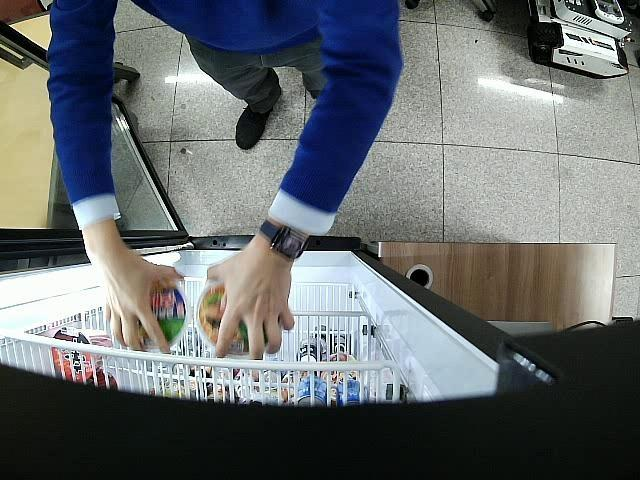09_yukGaeJang: (195, 282, 248, 356), (144, 278, 182, 350)
